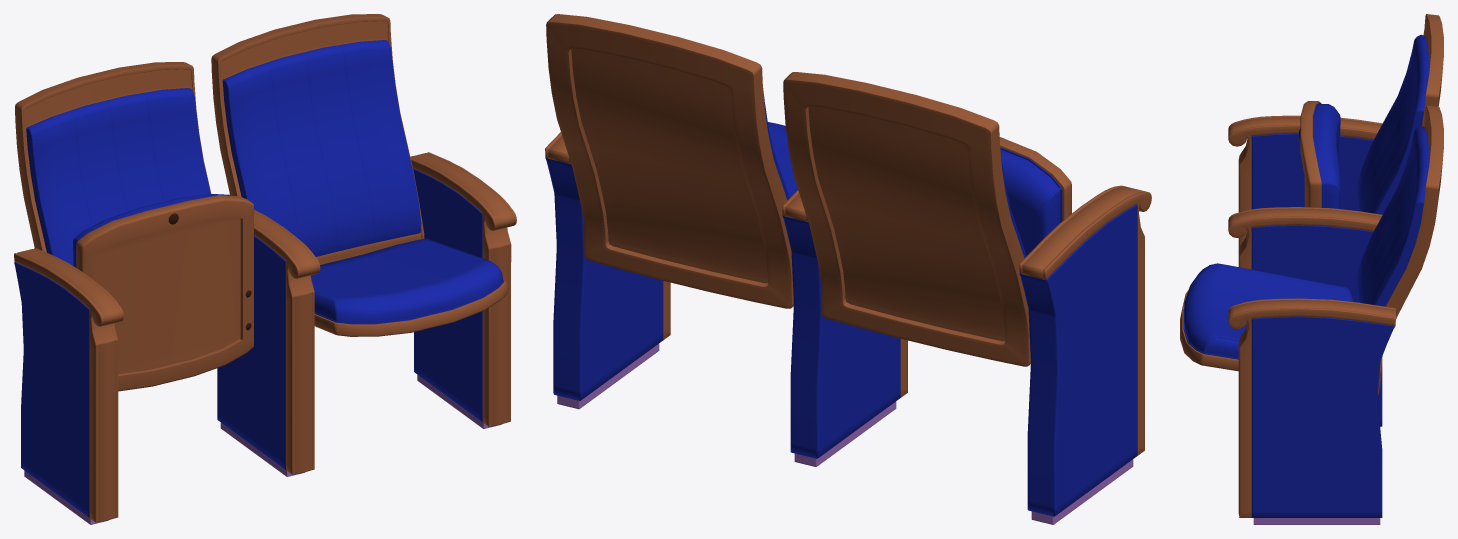
The model's file is Theatrical chair.FBX.
3 renders of one model, left to right at view 1: azimuth 30°, elevation 25°; view 2: azimuth 150°, elevation 25°; view 3: azimuth 270°, elevation 25°, orthographic. The views are drawn at different scales.
Visible parts, largest first — view 1: Theatrical_chair; view 2: Theatrical_chair; view 3: Theatrical_chair.
Part boxes in pixels (<box>): Theatrical_chair: <box>14,14,516,524</box>; Theatrical_chair: <box>545,14,1151,524</box>; Theatrical_chair: <box>1180,14,1443,524</box>.
Size of the model in its own units: 1135 by 925 by 653.
